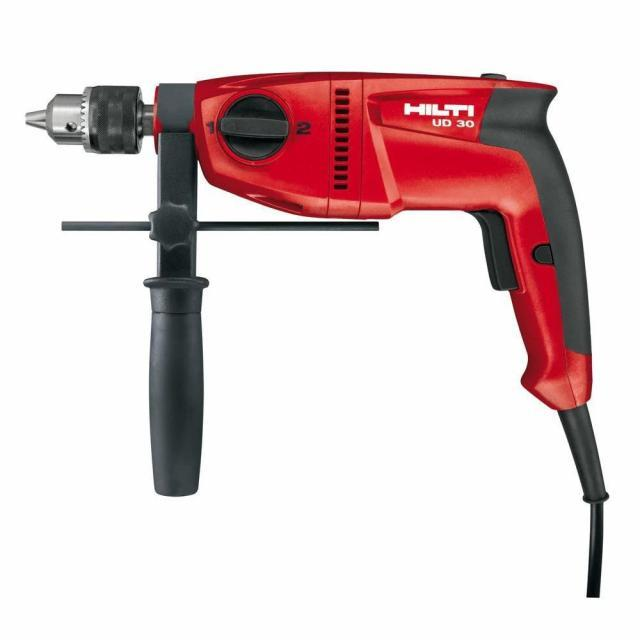drill: (25, 72, 611, 506)
